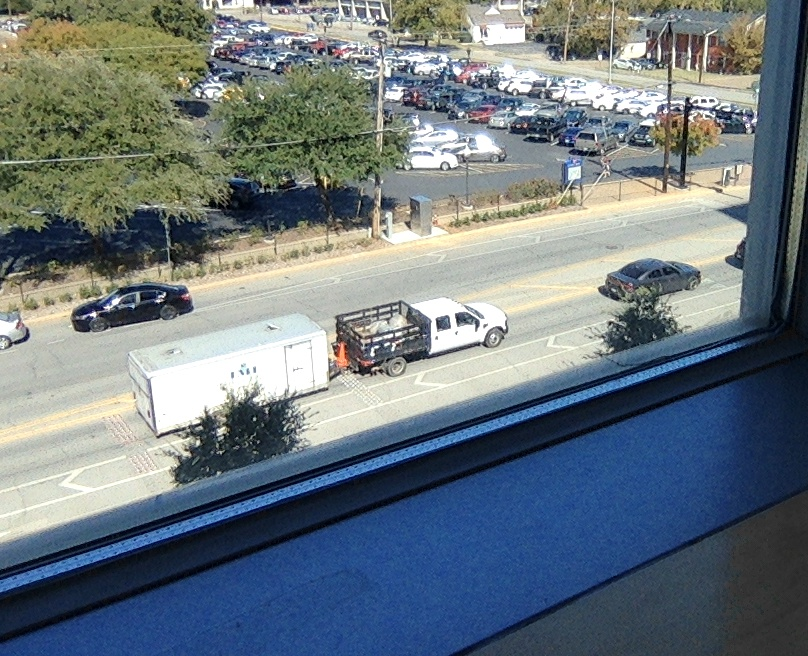car: (300, 300, 508, 392)
